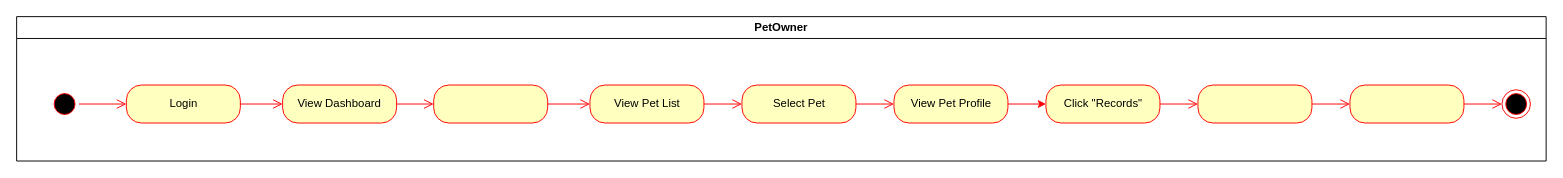
Image size: 1563x178. Some labels were removed from this diagram. Here are the shapes that lost their labels. From the top down, the centre of each, then its label:
point (490, 103): Click "MyPet" Space
point (1254, 103): Select Record
point (1406, 103): Select View AI Diagnosis
